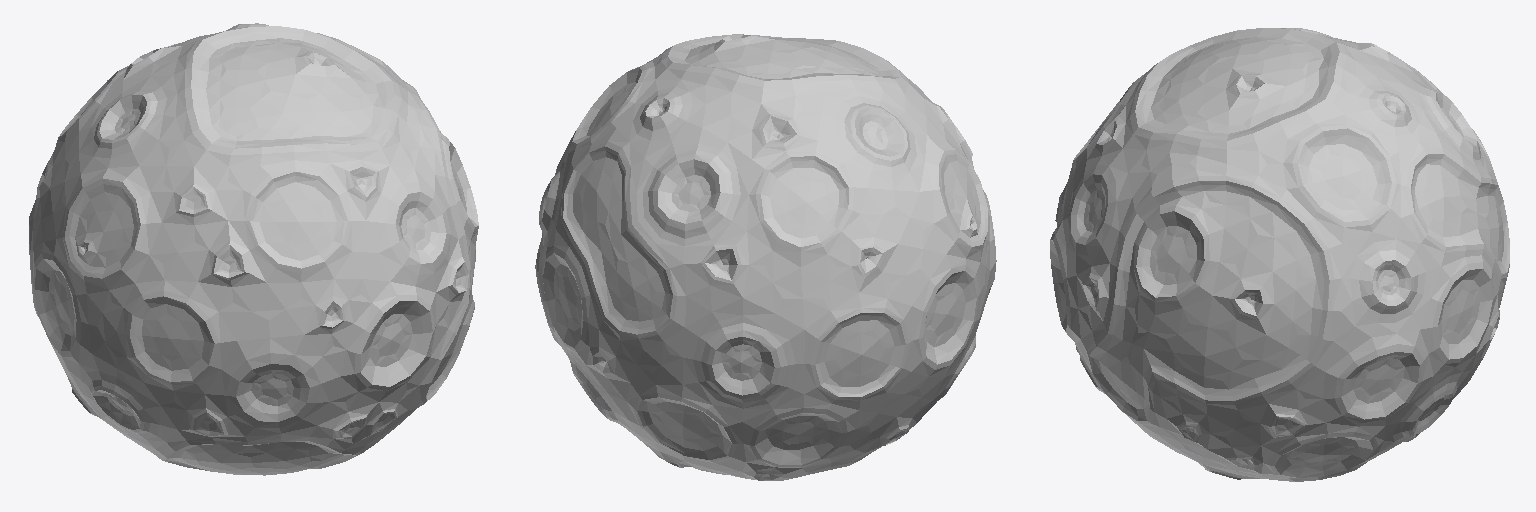
Rendered from Moon.obj.
The picture shows the model from 3 angles: view 1: azimuth 30°, elevation 25°; view 2: azimuth 150°, elevation 25°; view 3: azimuth 270°, elevation 25°; orthographic projection.
Visible parts, largest first — view 1: Moon; view 2: Moon; view 3: Moon.
Boxes of the visible parts, x1,y1,x2,y2 form: Moon: [29, 23, 478, 475]; Moon: [535, 34, 996, 480]; Moon: [1050, 28, 1509, 481].
Size of the model in its own units: 7.42 by 7.4 by 7.59.